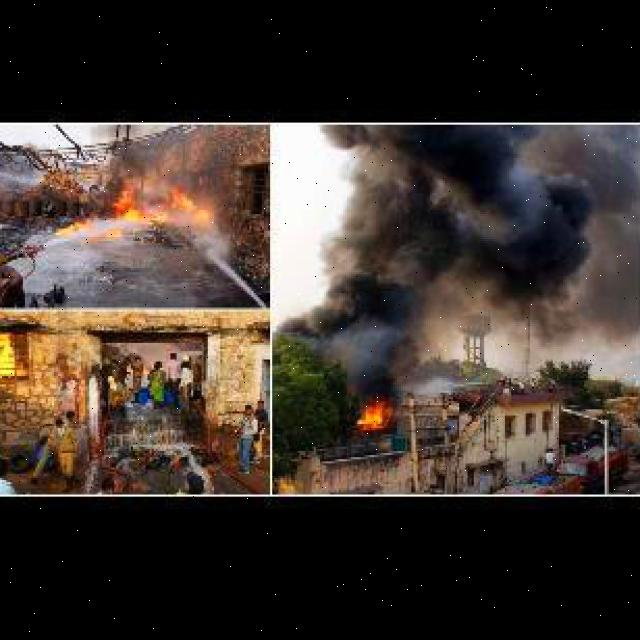fire: (54, 181, 156, 243), (170, 176, 216, 226), (353, 393, 403, 430), (0, 330, 36, 380)
smoke: (275, 121, 640, 370), (94, 122, 193, 178)
